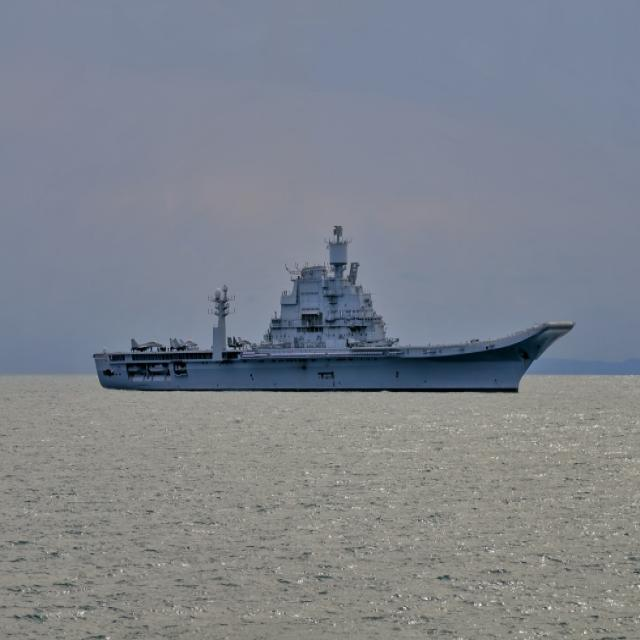Portanaves: (90, 225, 580, 399)
